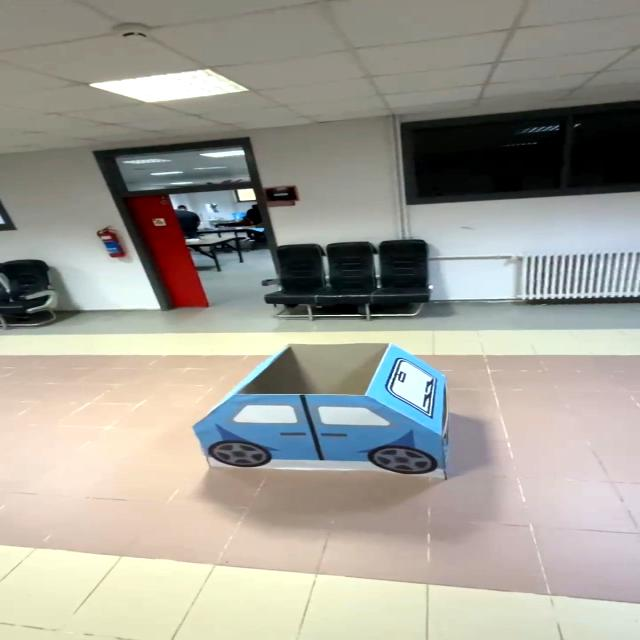blue_car: (178, 326, 484, 483)
